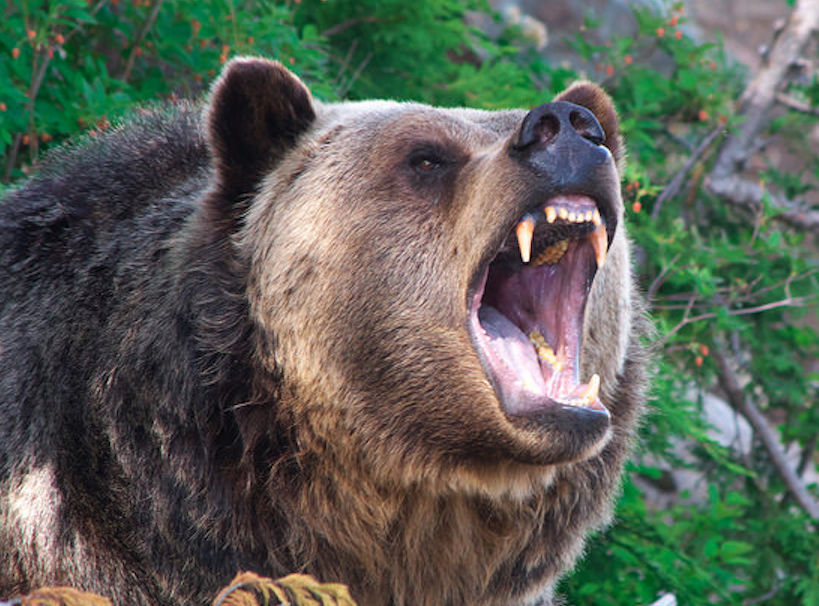bear: (191, 49, 635, 478)
